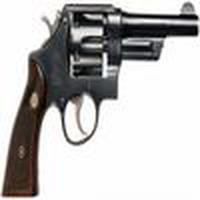gun: (4, 4, 200, 163)
